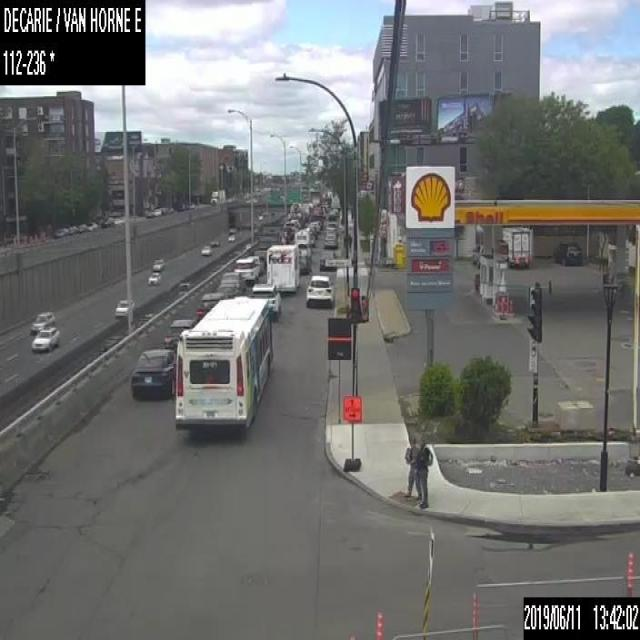bus: (172, 295, 271, 429)
construction: (522, 594, 639, 638), (342, 392, 362, 423), (374, 608, 384, 639), (348, 629, 357, 639)
pedestrian: (411, 438, 431, 508), (404, 436, 420, 496)
vehicle: (130, 349, 175, 399), (266, 244, 300, 293), (252, 212, 284, 264), (502, 224, 532, 267), (251, 283, 281, 320), (164, 318, 196, 348), (304, 274, 334, 306), (196, 292, 227, 319), (31, 325, 59, 352), (552, 240, 582, 264), (234, 256, 259, 283), (219, 271, 245, 293), (31, 310, 54, 332), (295, 243, 312, 272), (472, 244, 492, 267), (288, 200, 305, 227), (114, 298, 133, 318), (248, 253, 264, 276), (216, 283, 240, 297), (319, 250, 335, 270), (294, 227, 310, 246), (210, 189, 226, 203), (324, 232, 336, 248), (151, 258, 164, 272), (146, 272, 160, 285), (304, 225, 316, 238), (324, 221, 336, 234), (178, 282, 190, 294), (283, 226, 292, 242), (284, 220, 296, 232), (308, 220, 320, 232), (200, 244, 211, 255), (290, 218, 300, 229), (53, 228, 65, 236), (210, 235, 218, 245), (86, 222, 96, 230), (77, 222, 86, 230), (227, 233, 235, 241), (152, 208, 160, 215), (145, 210, 152, 218)
